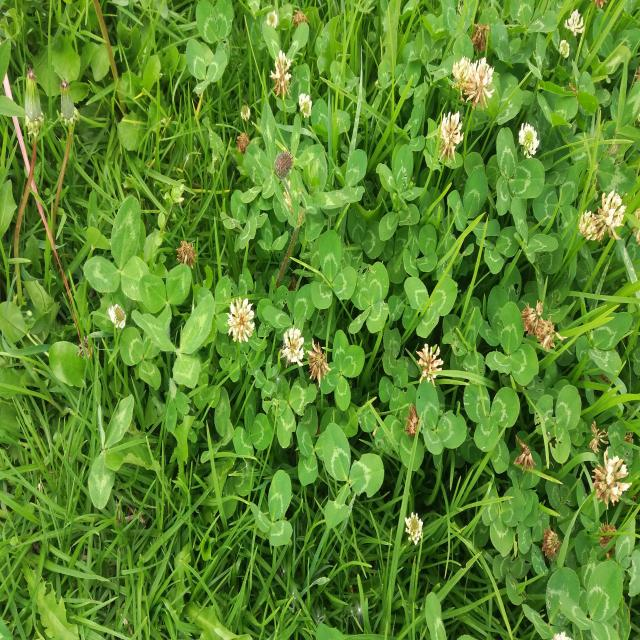Four Leaf Clover: (319, 335, 365, 411), (348, 261, 389, 333), (379, 144, 427, 203)
